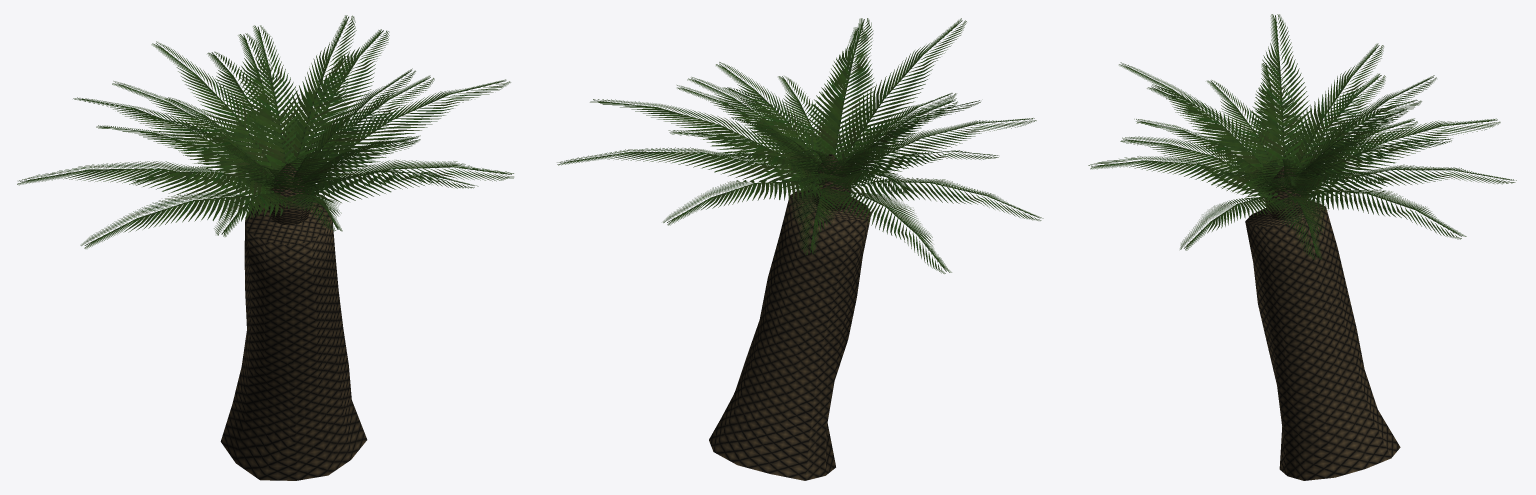
The model's file is ENV_PC_Cycad_B.fbx.
3 views of the same model, side by side, from view 1: azimuth 30°, elevation 25°; view 2: azimuth 150°, elevation 25°; view 3: azimuth 270°, elevation 25° (orthographic). The views are drawn at different scales.
Visible parts, largest first — view 1: ENV_PC_Cycad_B_LOD0; view 2: ENV_PC_Cycad_B_LOD0; view 3: ENV_PC_Cycad_B_LOD0.
Boxes of the visible parts, x1,y1,x2,y2 form: ENV_PC_Cycad_B_LOD0: [17, 15, 513, 480]; ENV_PC_Cycad_B_LOD0: [557, 18, 1043, 480]; ENV_PC_Cycad_B_LOD0: [1088, 14, 1516, 480].
Size of what is drawn, in the model's own units: 4.4 by 3.76 by 4.03.
